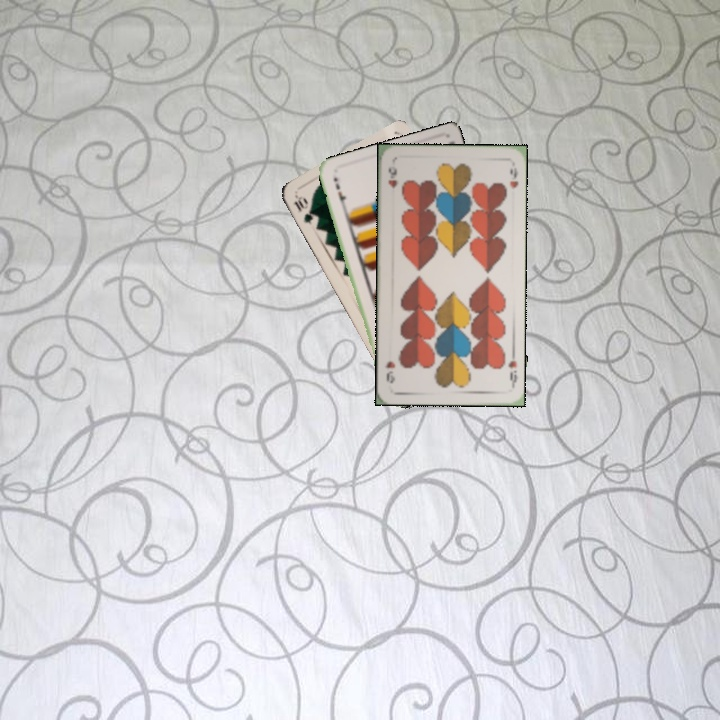E7: (329, 173, 349, 210)
G10: (290, 192, 316, 228)
H9: (504, 349, 520, 389), (384, 162, 400, 191)
